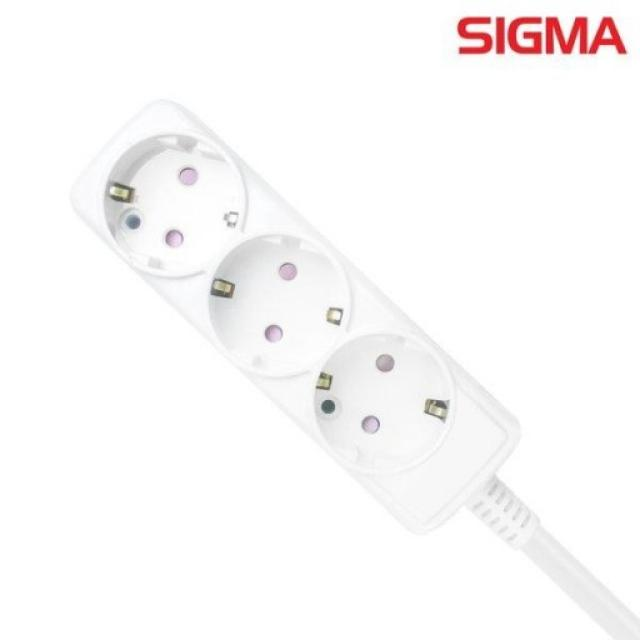typeb: (29, 93, 528, 539)
